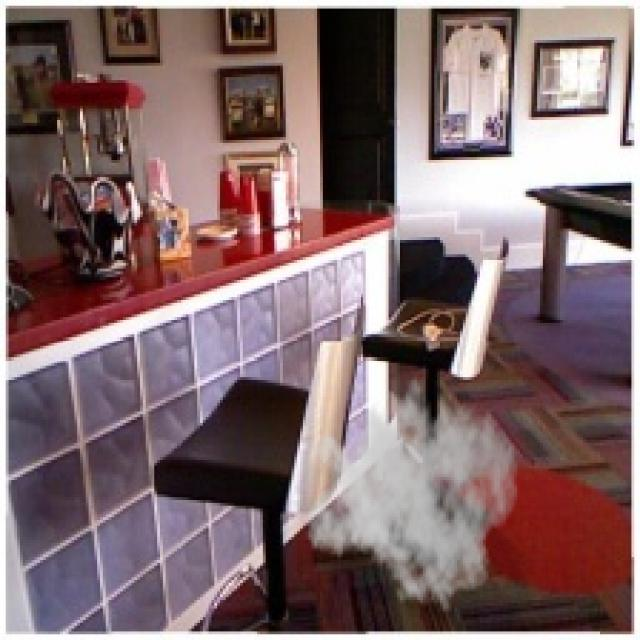smoke: (303, 363, 520, 614)
